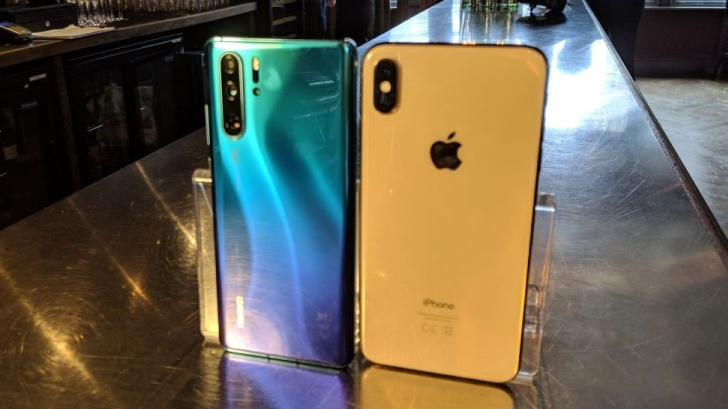apple: (426, 126, 472, 177)
